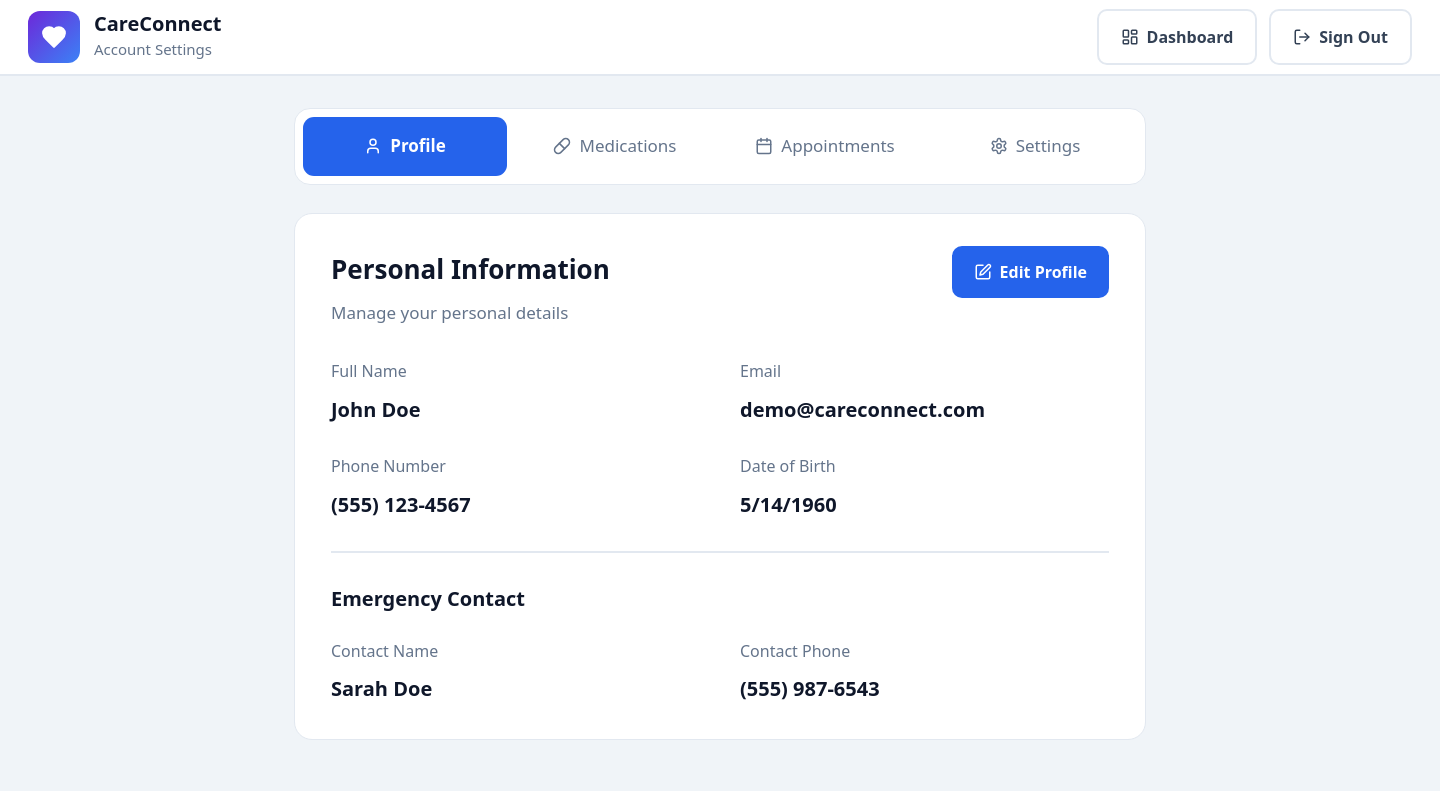
Test: AccountSettingsPage › switches to medications tab
The image size is (1440, 791).
Click the button "Medications".
click(615, 146)  # box left=513, top=117, right=717, bottom=176
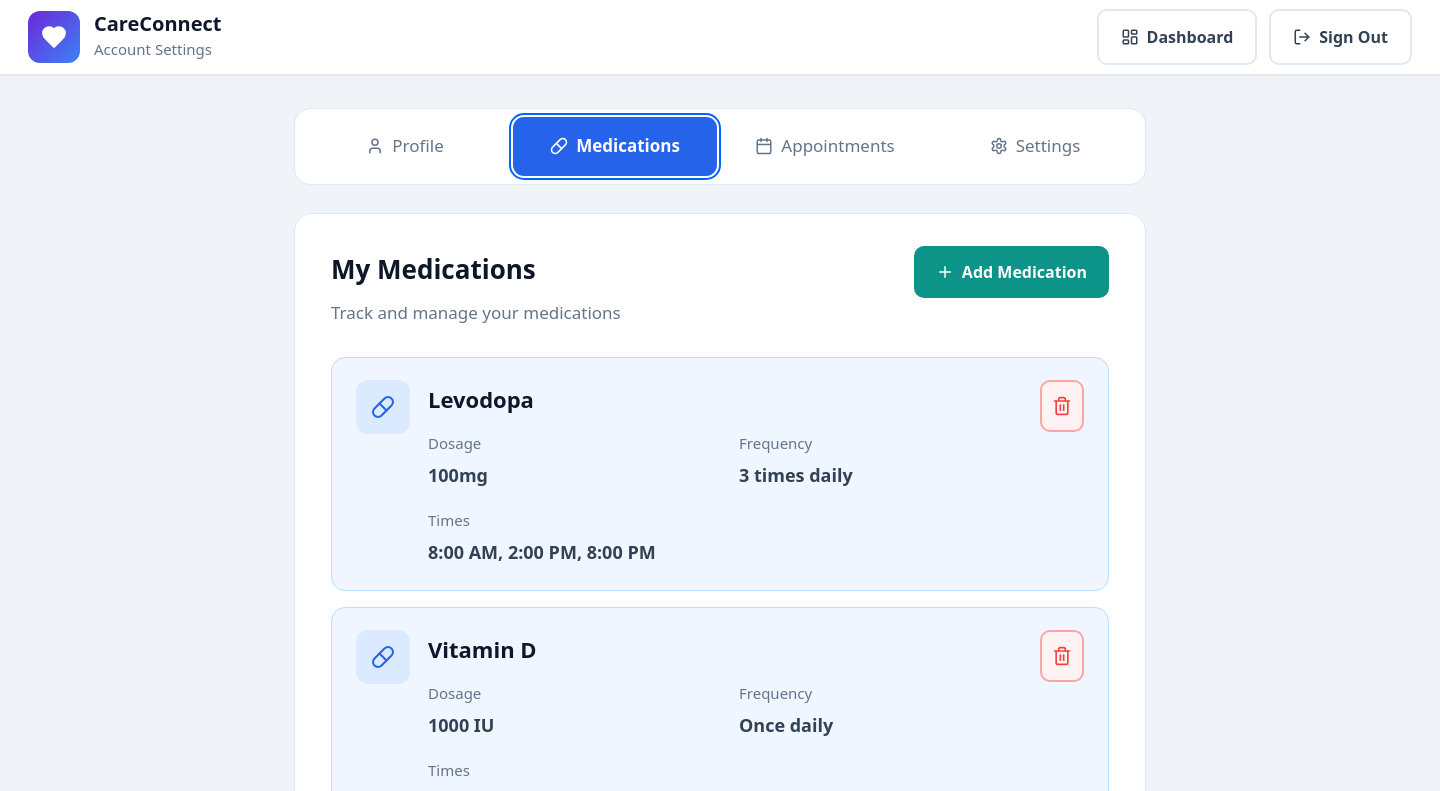
Now the heading "My Medications" is shown, box left=331, top=251, right=536, bottom=287
Now the text "Levodopa" is shown, box left=428, top=384, right=534, bottom=414
Now the text "Vitamin D" is shown, box left=428, top=634, right=537, bottom=664
